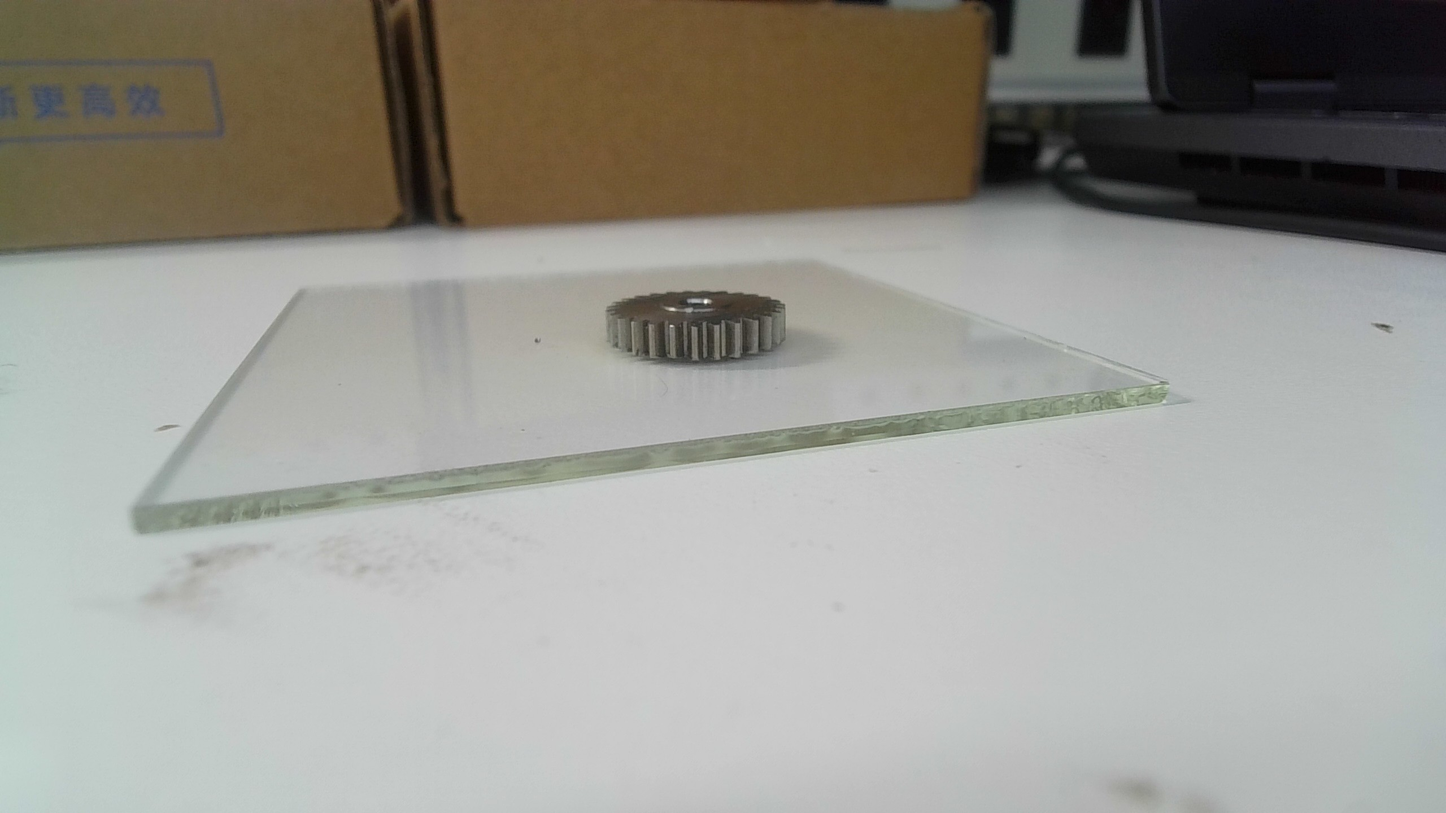gear: (602, 287, 790, 363)
